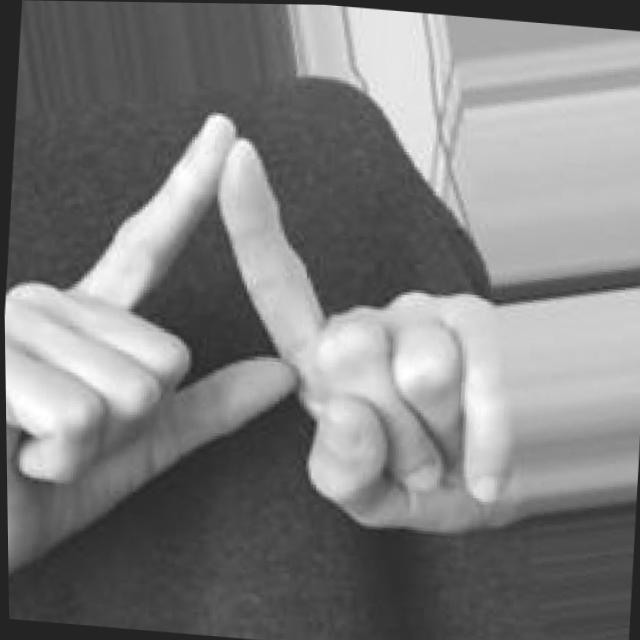D: (1, 81, 515, 640)
